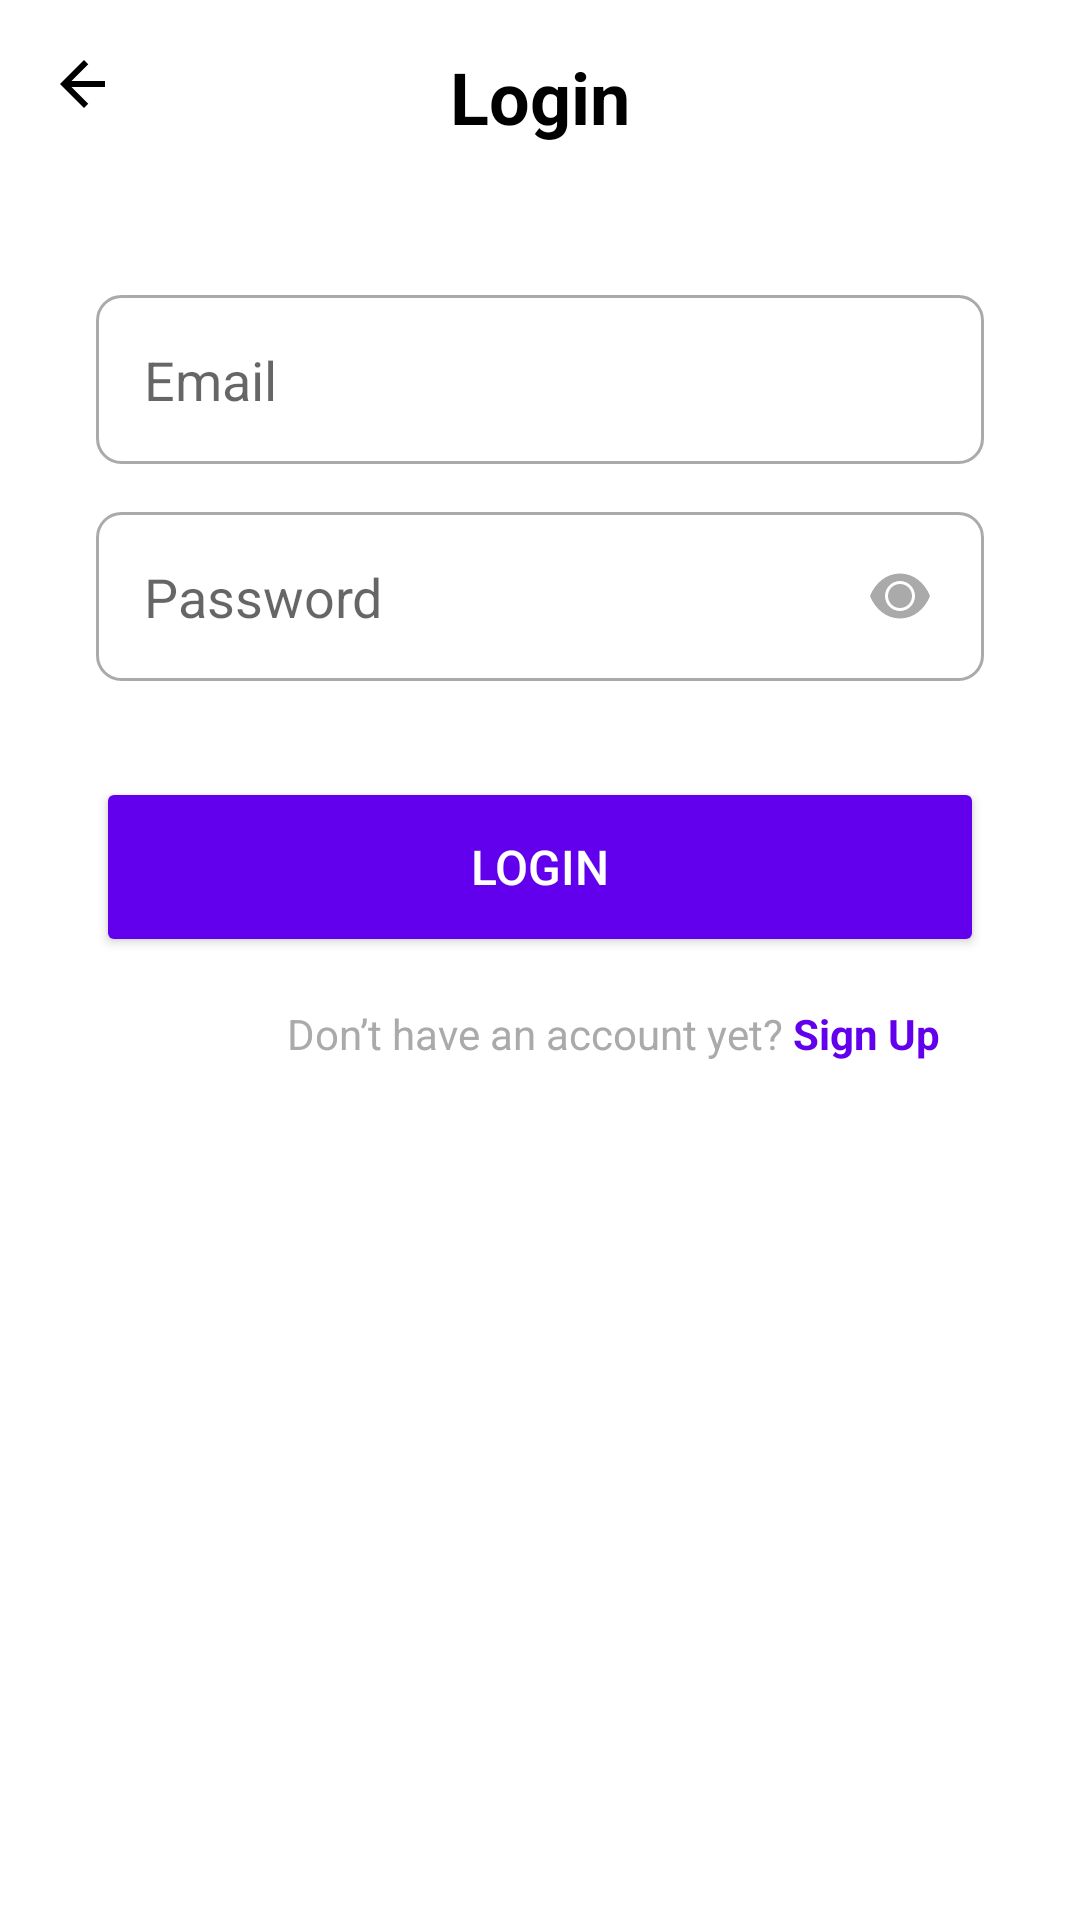

Icons on this 1080w x 1920h Android screen, each with the point to tap as (x=x, y=y):
back: (x=82, y=84)
